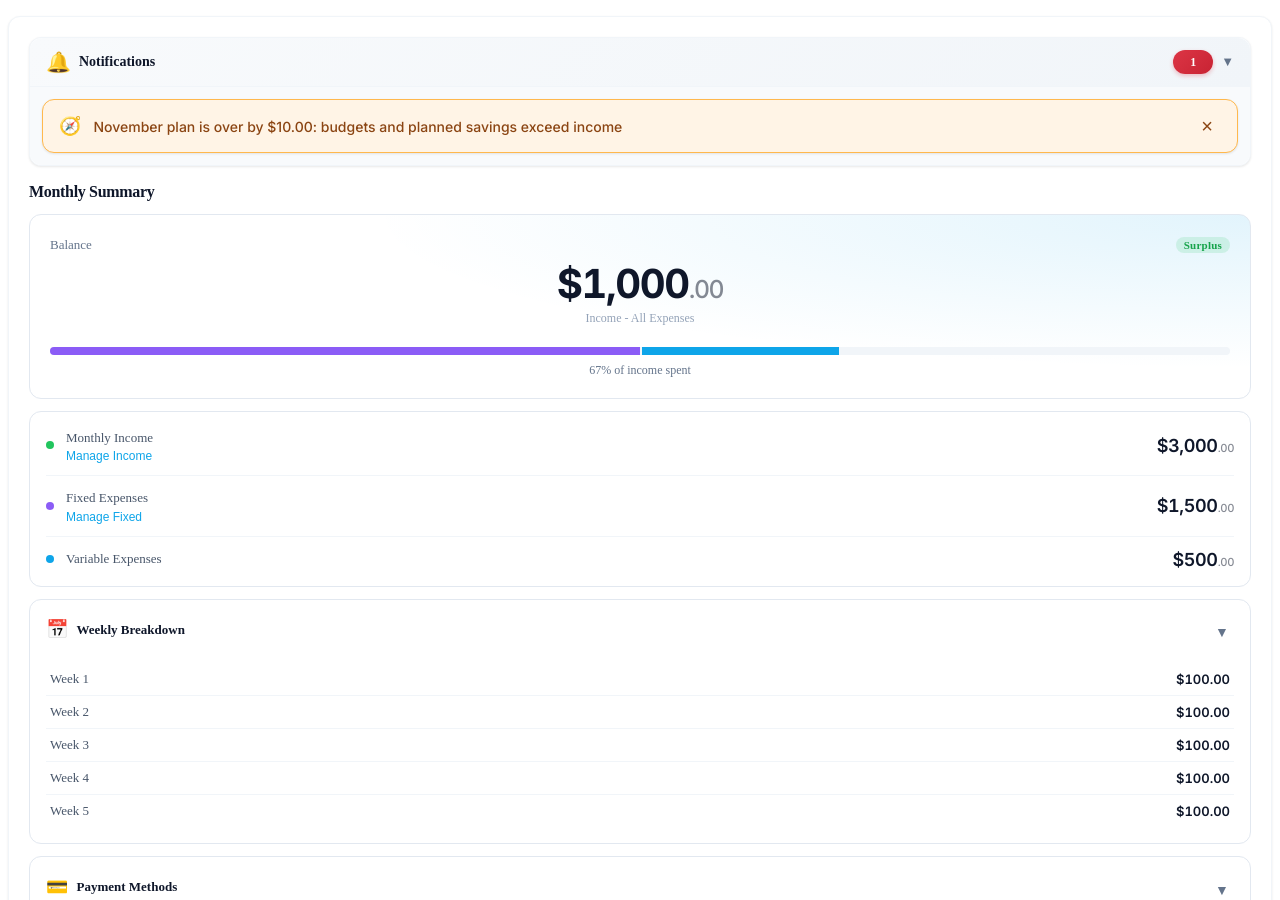
it: SummaryPanel › Summary Grid Layout › over-planned notification › hides when dismissed
The image size is (1280, 900).
Click the button named "Dismiss reminder" at {"x": 1207, "y": 126}, box [1193,112,1221,140]
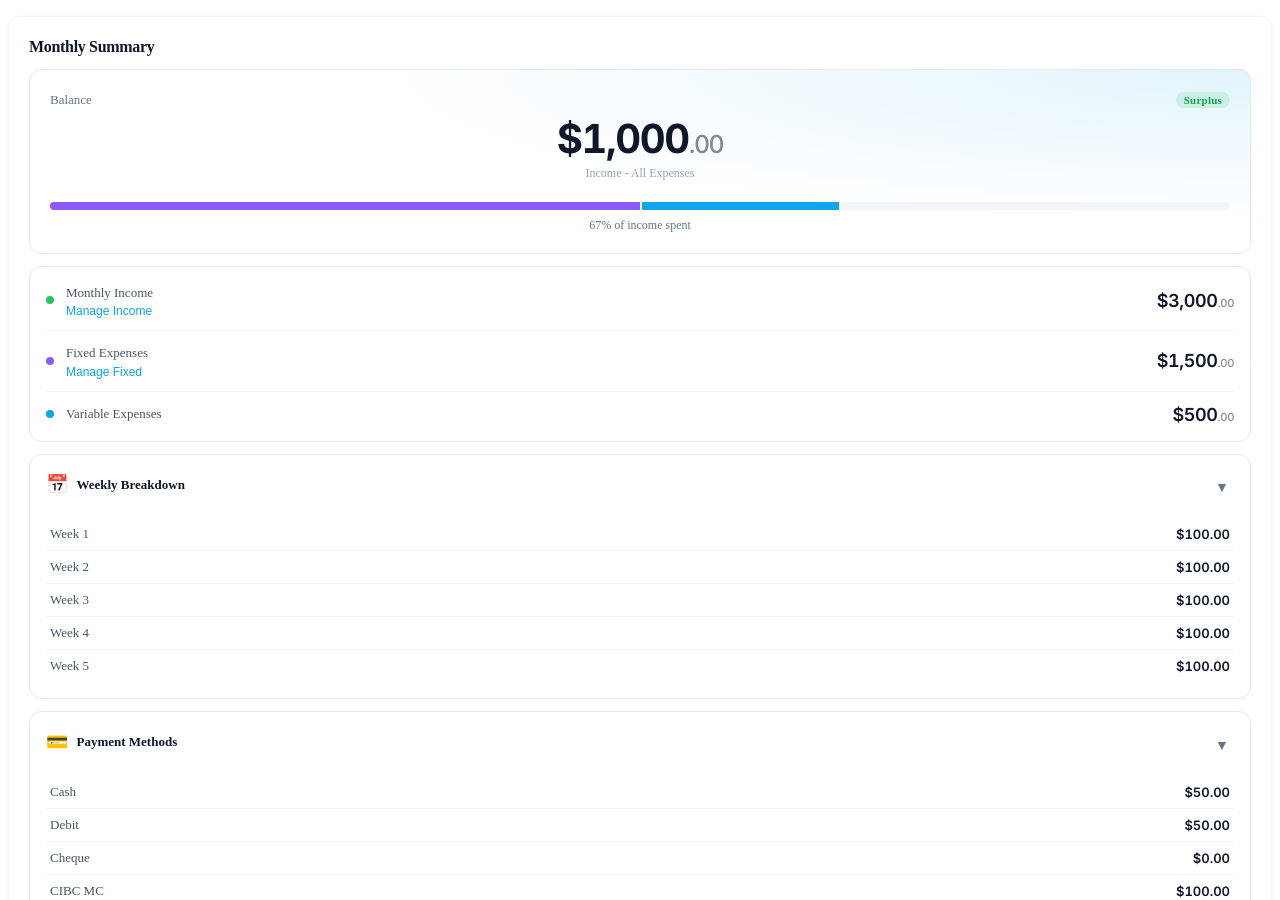
Result: the button with test id "over-planned-banner" is gone
